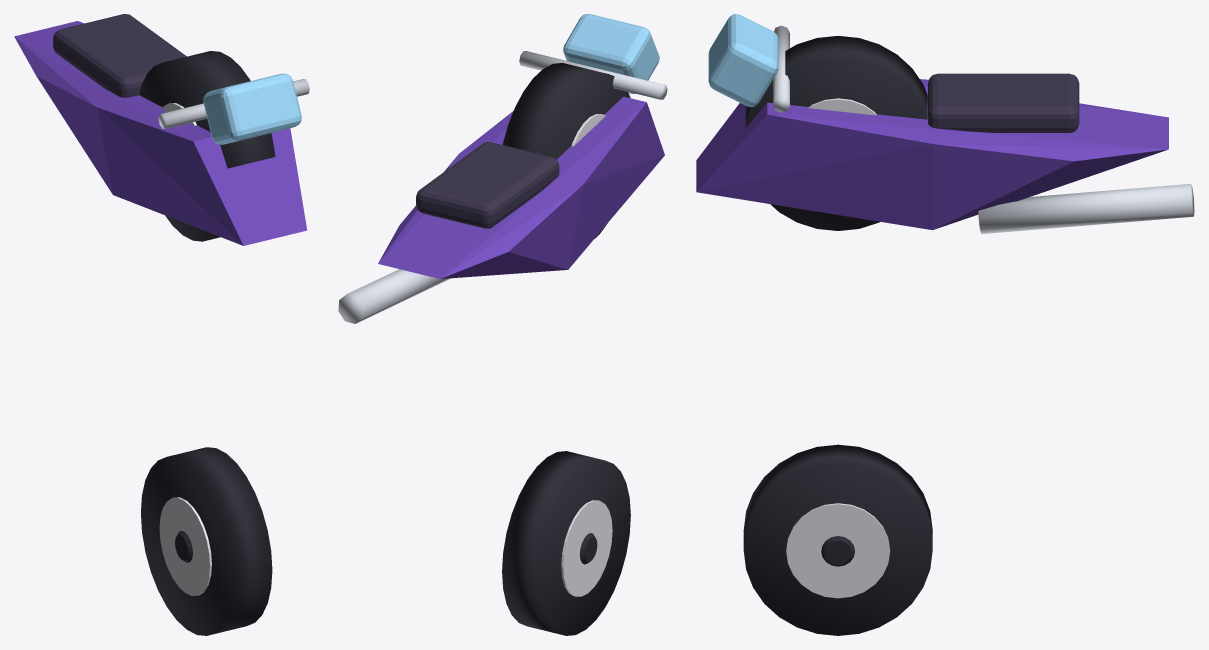
The model's file is Car_Moto.fbx.
3 renders of one model, left to right at view 1: azimuth 30°, elevation 25°; view 2: azimuth 150°, elevation 25°; view 3: azimuth 270°, elevation 25°, orthographic. The views are drawn at different scales.
Parts seen in each view (by area): view 1: Car_Moto, Wheel_F, Wheel_R; view 2: Car_Moto, Wheel_F, Wheel_R; view 3: Car_Moto, Wheel_F, Wheel_R.
Boxes of the visible parts, x1,y1,x2,y2 form: Car_Moto: (14,14,309,245); Wheel_F: (141,447,272,635); Wheel_R: (139,51,275,241); Car_Moto: (338,14,667,323); Wheel_F: (502,451,630,635); Wheel_R: (502,63,630,238); Car_Moto: (696,14,1194,233); Wheel_F: (743,444,932,635); Wheel_R: (745,36,927,230).
Size of the model in its own units: 0.36 by 1.39 by 1.05.
